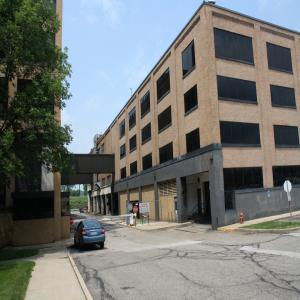Vehicle-registration-plate: (92, 233, 97, 236)
